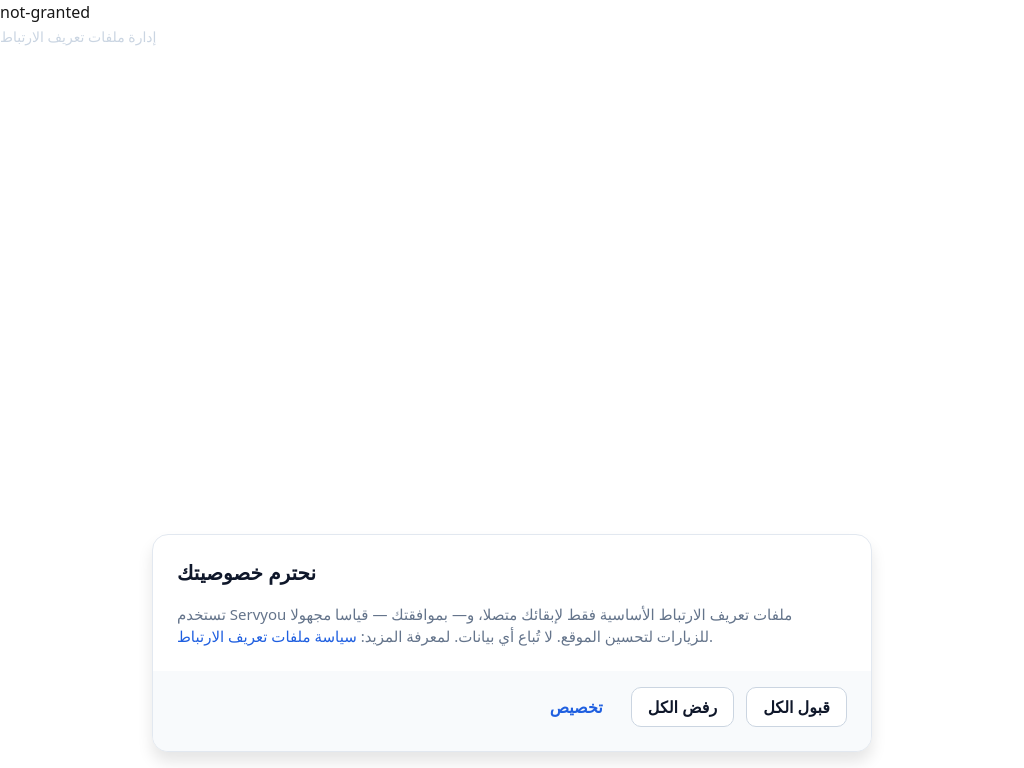
Test case: Arabic › renders the banner and the modal translated, with no raw key
This screenshot has width=1024, height=768.
Expected: the element "نحترم خصوصيتك" is shown, [152,534,872,752]
Click the button "تخصيص" at x=576, y=707, box [534,687,619,727]
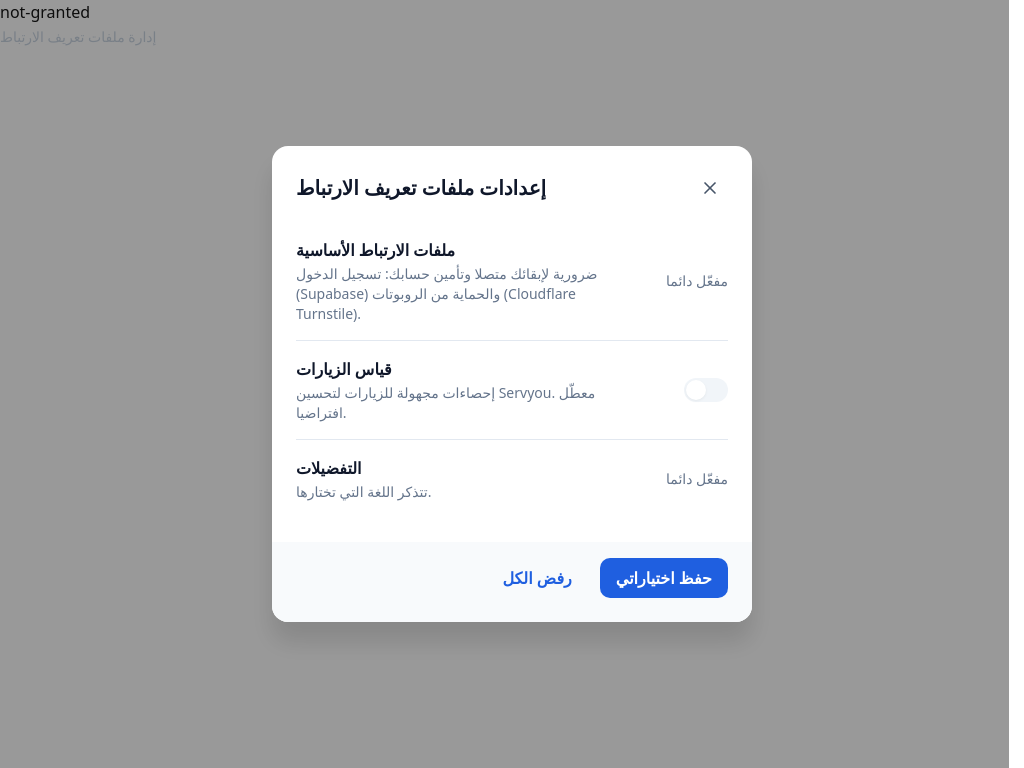
Expected: the dialog is shown, [272,146,752,622]
